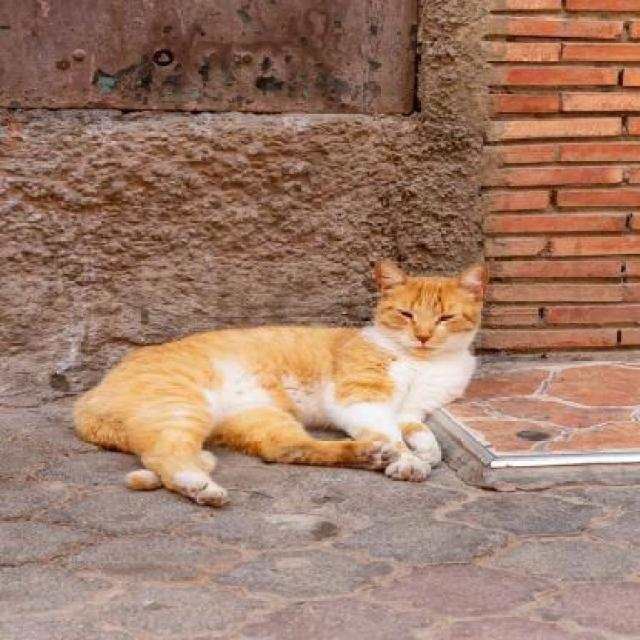cat: (54, 260, 500, 497)
